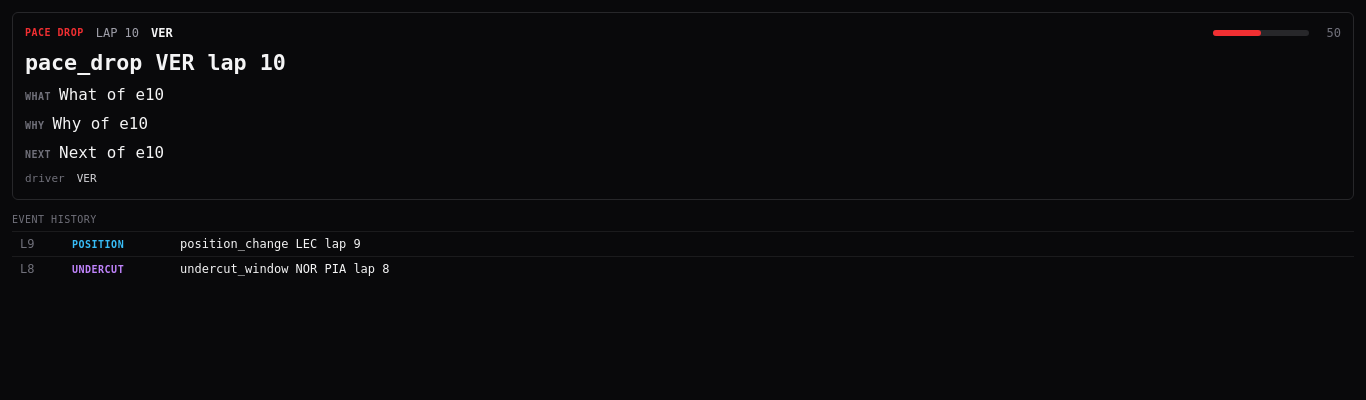
Test: Collapsed event history › expands the lap 8 row in place without changing the primary card, and collapses it again
Step 1. Click the button "L8 UNDERCUT undercut_window NOR PIA lap 8" → [98, 269], box x1=12 y1=257 x2=1354 y2=281
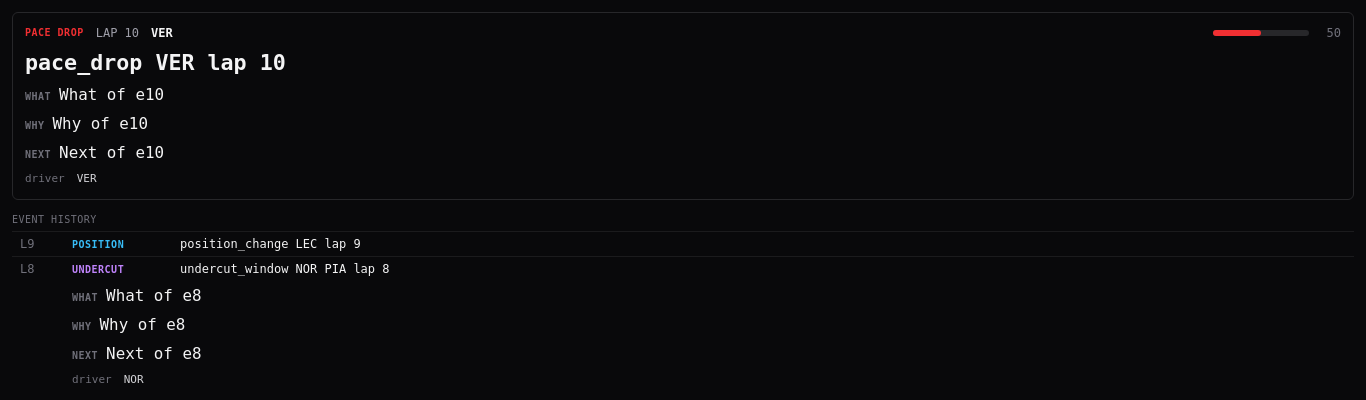
Now the element with test id "history-analysis" shows "What of e8", box x1=106 y1=286 x2=202 y2=305
Now the element with test id "history-analysis" shows "Next of e8", box x1=106 y1=344 x2=202 y2=363
Step 2. Click the button "L8 UNDERCUT undercut_window NOR PIA lap 8" → [98, 269], box x1=12 y1=257 x2=1354 y2=281
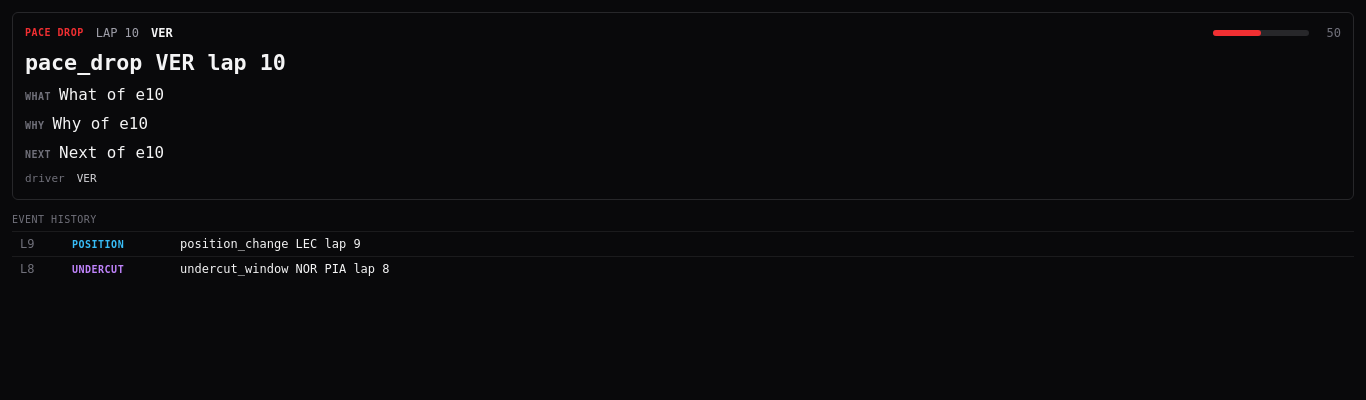
Now the element with test id "history-analysis" is gone
